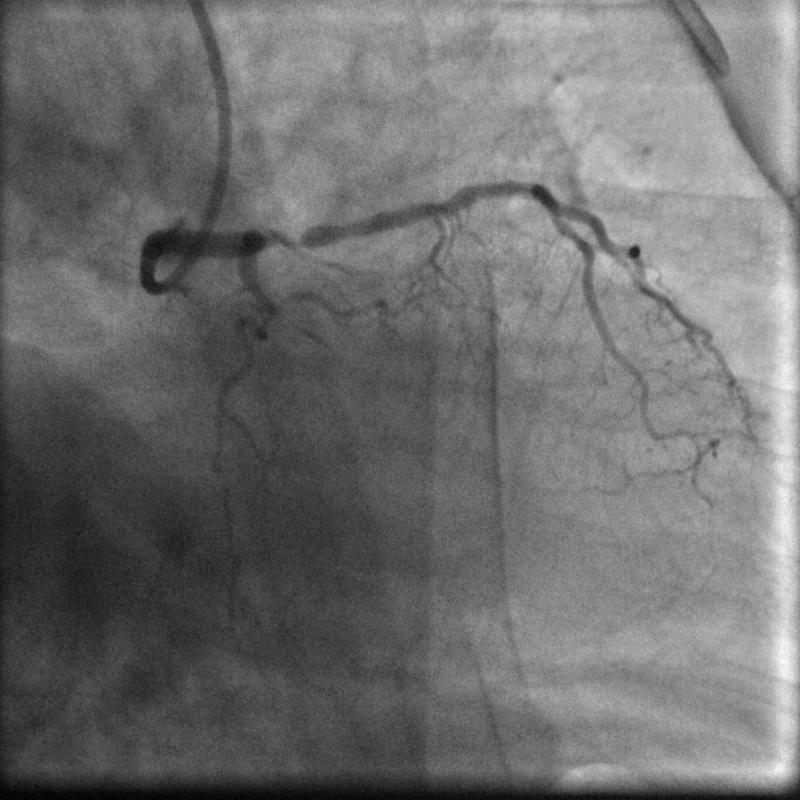Stenosis: (262, 219, 313, 250)
